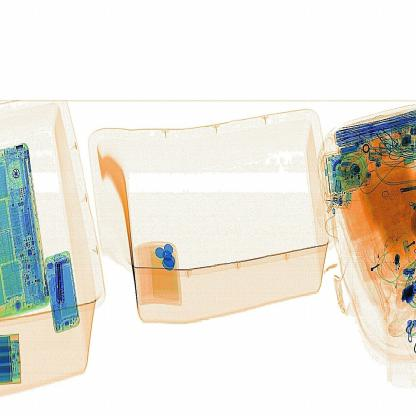scissors: (48, 250, 80, 313)
